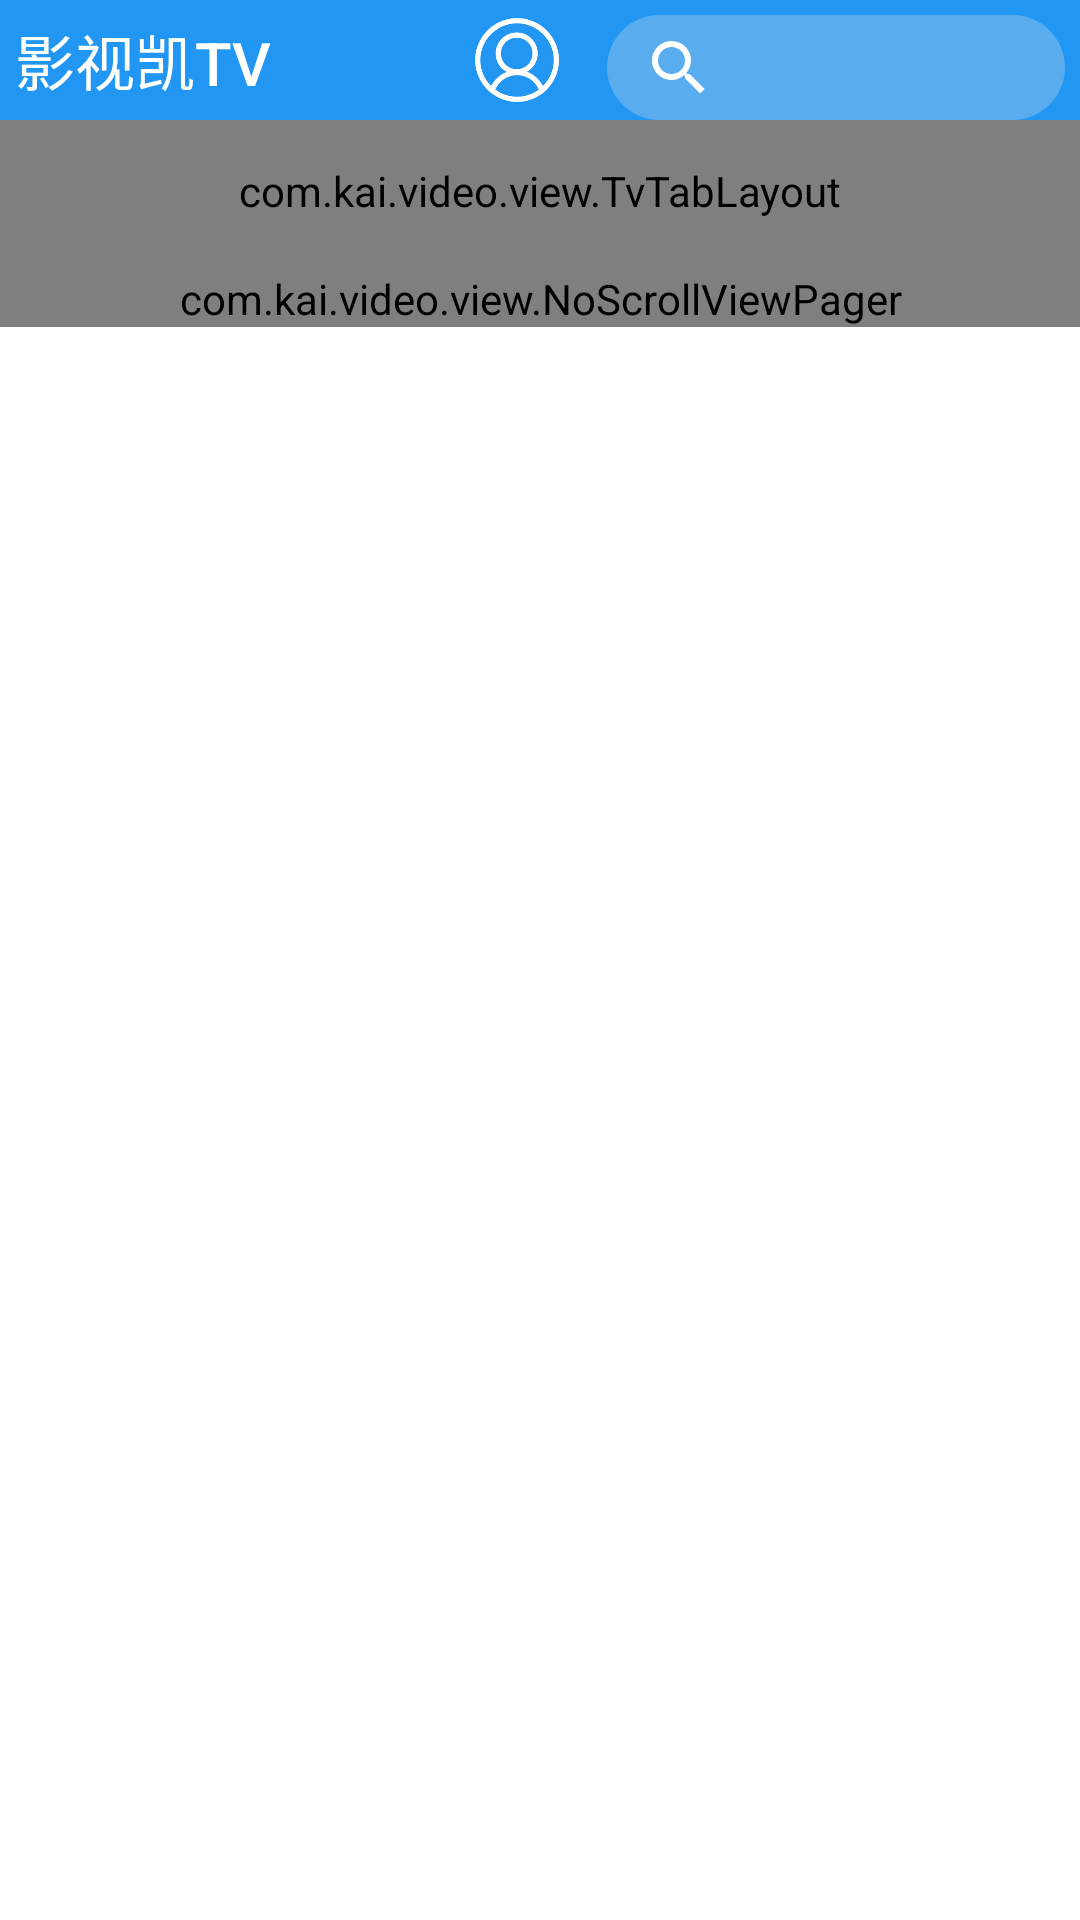

Locate icon controls on the screen. Image size 1080×1920, boxes as bbox(x1, y1, x2, y2).
user: bbox(475, 18, 559, 102)
